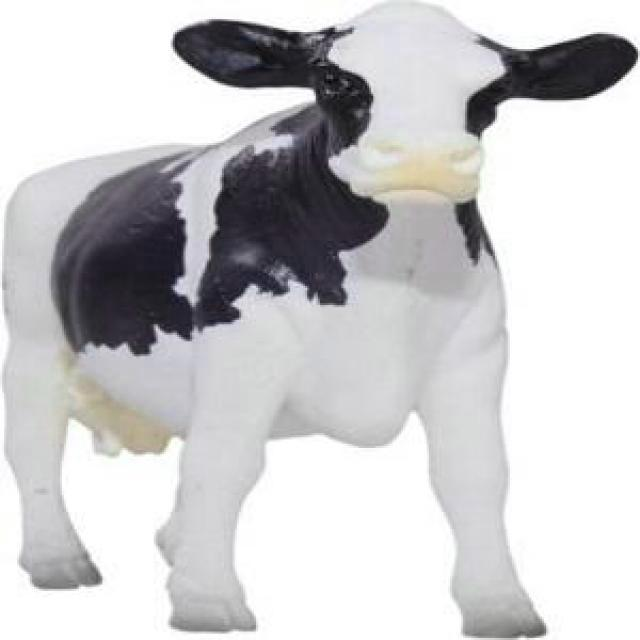cow: (4, 2, 636, 636)
